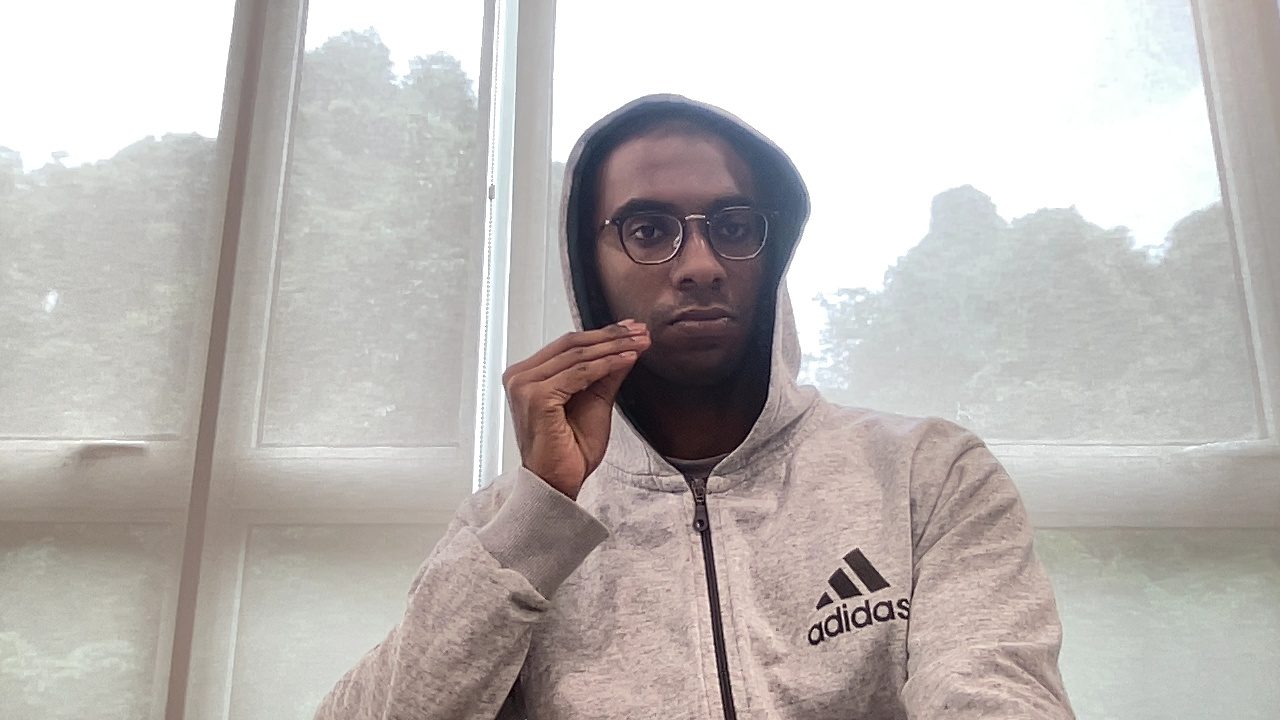eat: (495, 316, 655, 467)
